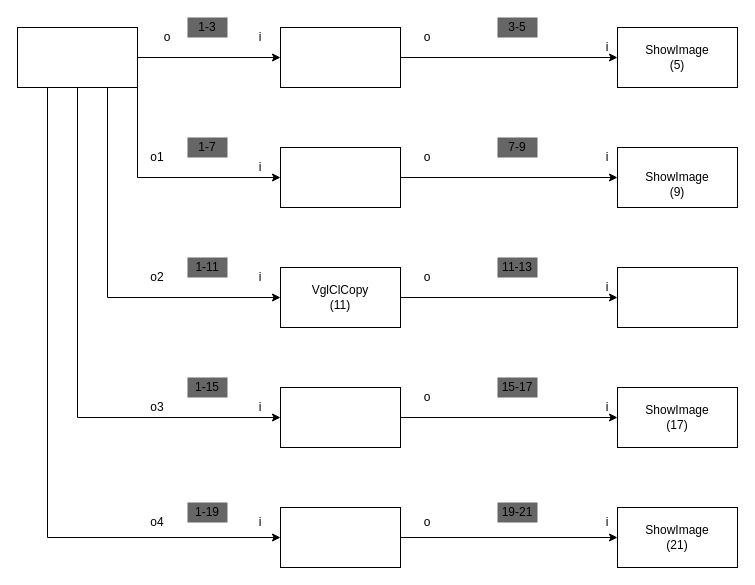
Image size: 755x585. Some labels were removed from this diagram. The shapes that lost their labels are listed below. From the top down, each one's box as (x1, y1, x2, y2) in pixels, then its label:
(16, 26, 138, 88): LoadImage (1)
(280, 26, 400, 88): VglClBlurSq3 (3)
(280, 146, 400, 208): VglCl3dCovolution (7)
(616, 266, 738, 328): ShowImage (13)
(280, 386, 400, 448): VglCl3dNot (15)
(280, 506, 400, 568): VglClDilate (19)
